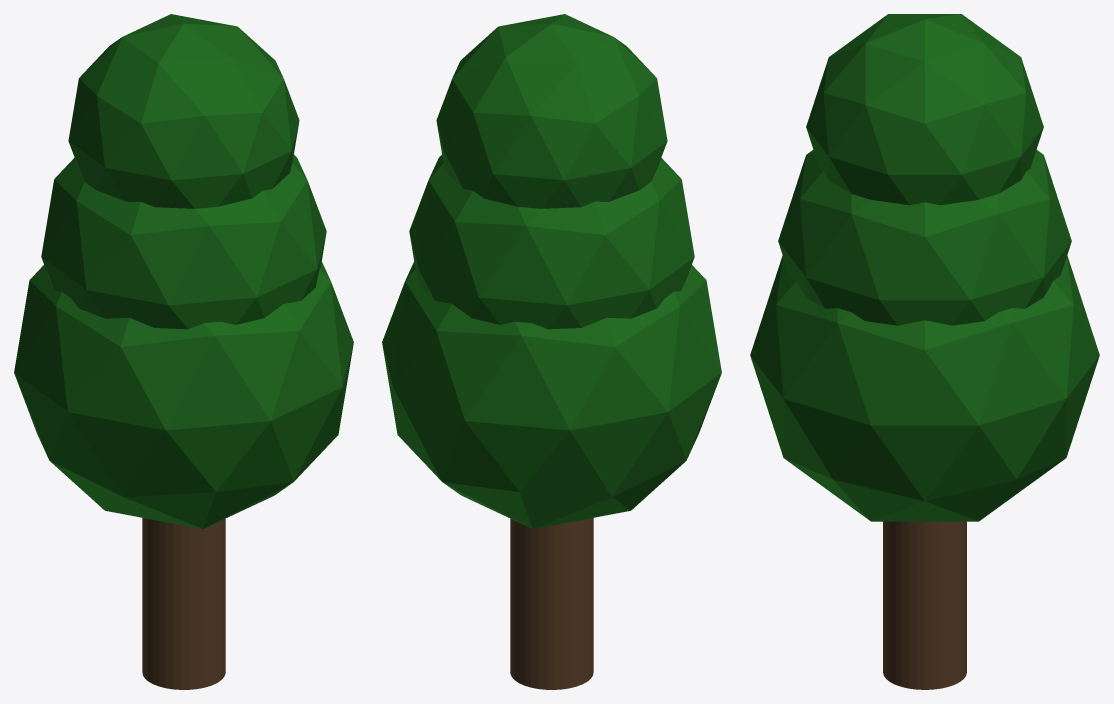
Rendered from Tree.obj.
3 renders of one model, left to right at view 1: azimuth 30°, elevation 25°; view 2: azimuth 150°, elevation 25°; view 3: azimuth 270°, elevation 25°, orthographic.
Parts seen in each view (by area): view 1: Icosphere, Icosphere.002, Icosphere.001, Cylinder; view 2: Icosphere, Icosphere.002, Icosphere.001, Cylinder; view 3: Icosphere, Icosphere.002, Icosphere.001, Cylinder.
Part boxes in pixels (box(x1,y1,x2,y2)): Icosphere: box(14, 261, 353, 528); Icosphere.002: box(68, 14, 299, 208); Icosphere.001: box(41, 155, 326, 329); Cylinder: box(142, 518, 225, 689); Icosphere: box(382, 261, 721, 528); Icosphere.002: box(436, 14, 667, 208); Icosphere.001: box(409, 155, 694, 329); Cylinder: box(510, 518, 593, 689); Icosphere: box(750, 255, 1099, 521); Icosphere.002: box(806, 14, 1043, 205); Icosphere.001: box(778, 150, 1071, 325); Cylinder: box(883, 521, 966, 689).
Size of the model in its own units: 4.76 by 10.3 by 5.
